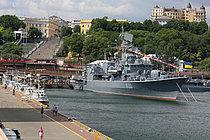MIL_Ship: (70, 37, 191, 102)
